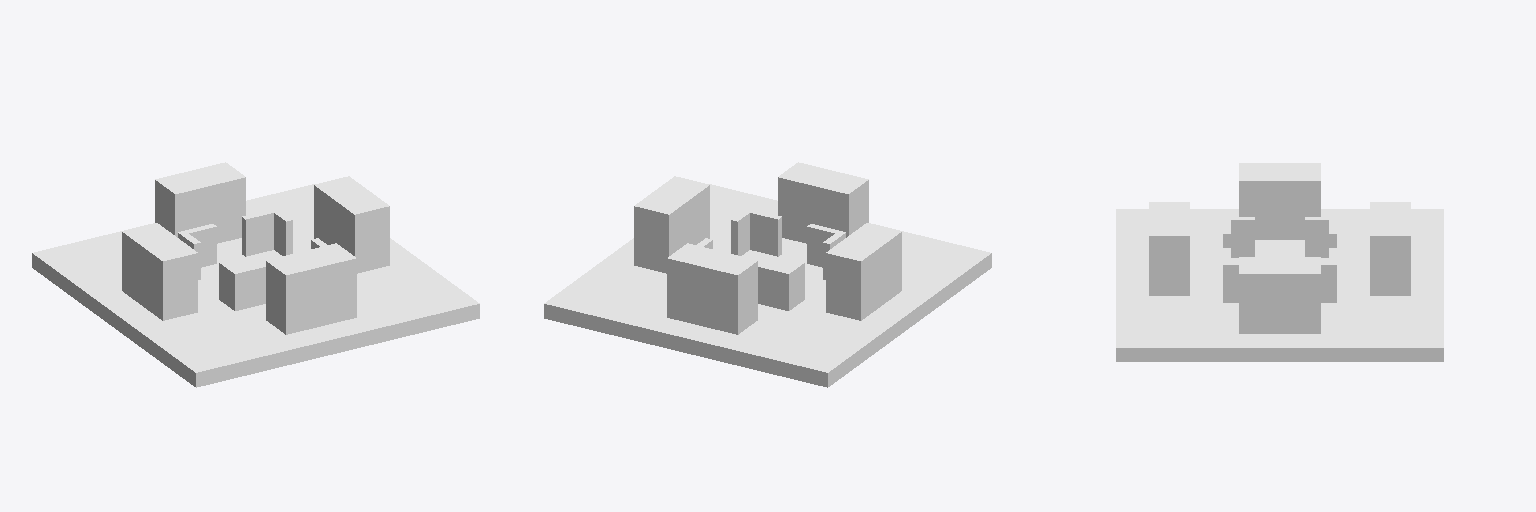
The model's file is Comedero.obj.
3 renders of one model, left to right at view 1: azimuth 30°, elevation 25°; view 2: azimuth 150°, elevation 25°; view 3: azimuth 270°, elevation 25°, orthographic.
Visible parts, largest first — view 1: Comedero; view 2: Comedero; view 3: Comedero.
Part boxes in pixels (x1,y1,x2,y2): Comedero: (32,162,479,387); Comedero: (544,162,991,387); Comedero: (1116,163,1443,361).
Size of the model in its own units: 11.6 by 2.9 by 11.6.